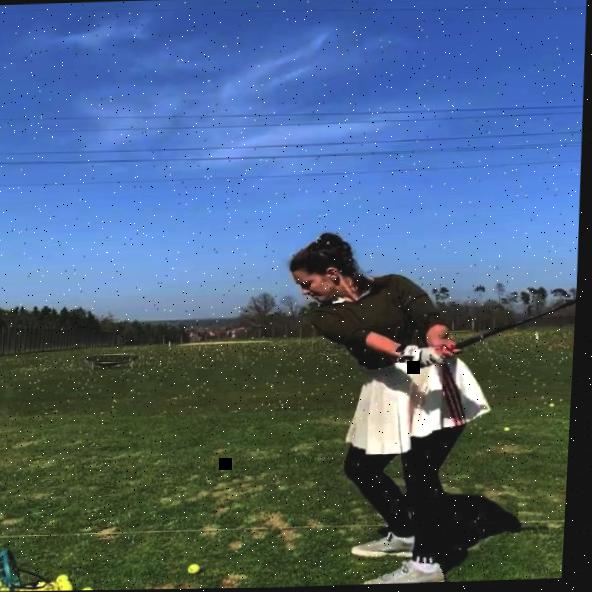GolfBall: (193, 565, 206, 575)
